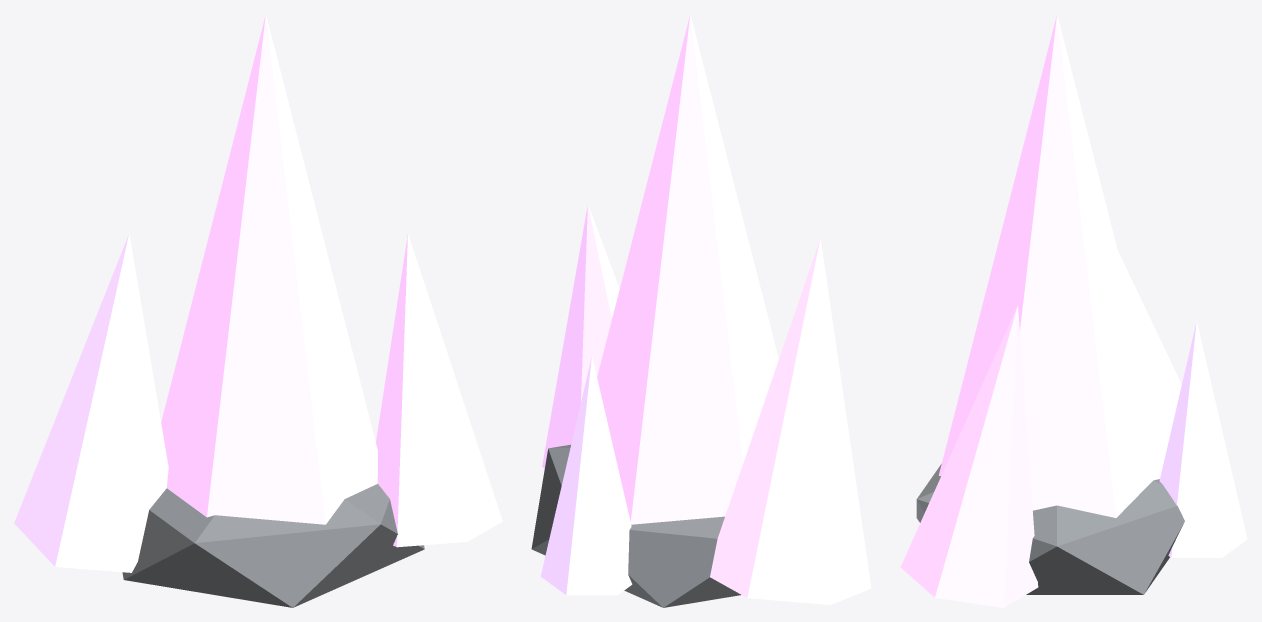
File: crystal.glb
The picture shows the model from 3 angles, left to right: view 1: azimuth 30°, elevation 25°; view 2: azimuth 150°, elevation 25°; view 3: azimuth 270°, elevation 25°; orthographic projection.
Visible parts, largest first — view 1: shard_main, shard_left, base_rock, shard_right; view 2: shard_main, shard_left, shard_small, base_rock, shard_right; view 3: shard_main, shard_right, base_rock, shard_small, shard_left.
Boxes of the visible parts, x1,y1,x2,y2 form: shard_main: (161, 14, 377, 524); shard_left: (14, 233, 168, 572); base_rock: (122, 484, 424, 607); shard_right: (376, 234, 502, 547); shard_main: (597, 14, 778, 524); shard_left: (710, 238, 871, 604); shard_small: (540, 356, 632, 595); base_rock: (531, 444, 740, 607); shard_right: (542, 205, 619, 468); shard_main: (938, 14, 1167, 517); shard_right: (900, 305, 1038, 607); base_rock: (916, 464, 1184, 594); shard_small: (1159, 321, 1247, 557); shard_left: (1118, 251, 1181, 444).
Bounding box in the file's own units: 0.6678 × 0.9796 × 0.5468.
